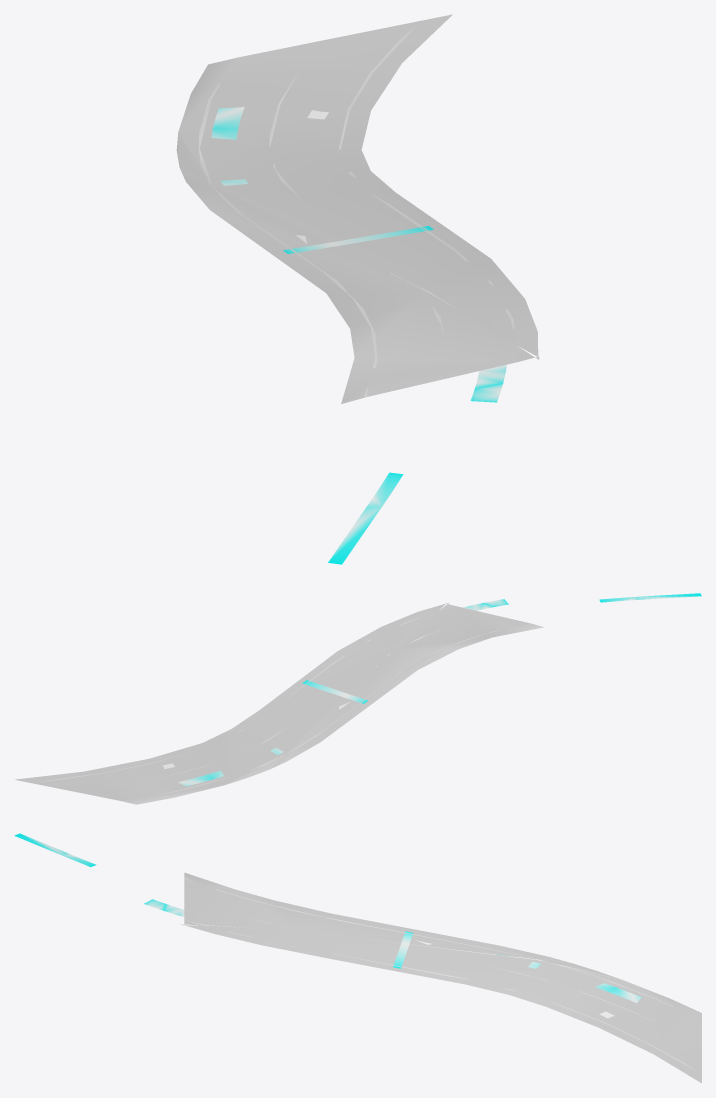
Rendered from cell_88_53.fbx.
3 views of the same model, one above another, from view 1: azimuth 30°, elevation 25°; view 2: azimuth 150°, elevation 25°; view 3: azimuth 270°, elevation 25° (orthographic). The views are drawn at different scales.
Parts seen in each view (by area): view 1: SpaceCenter_Long3_GenerateRoad_Asphalt_Mesh_x110_y67_17447_H, SpaceCenter_Long3_GenerateRoad_Asphalt_Mesh_x110_y66_17446_H, SpaceCenter_Long3_GenerateRoad_Asphalt_PCGMesh_Decal_Mesh_x1, SpaceCenter_Long3_GenerateRoad_Asphalt_PCGMesh_Decal_Mesh_x.; view 2: SpaceCenter_Long3_GenerateRoad_Asphalt_Mesh_x110_y67_17447_H, SpaceCenter_Long3_GenerateRoad_Asphalt_Mesh_x110_y66_17446_H, SpaceCenter_Long3_GenerateRoad_Asphalt_PCGMesh_Decal_Mesh_x1, SpaceCenter_Long3_GenerateRoad_Asphalt_PCGMesh_Decal_Mesh_x.; view 3: SpaceCenter_Long3_GenerateRoad_Asphalt_Mesh_x110_y67_17447_H, SpaceCenter_Long3_GenerateRoad_Asphalt_Mesh_x110_y66_17446_H, SpaceCenter_Long3_GenerateRoad_Asphalt_PCGMesh_Decal_Mesh_x1, SpaceCenter_Long3_GenerateRoad_Asphalt_PCGMesh_Decal_Mesh_x..
Boxes of the visible parts, <box> form: SpaceCenter_Long3_GenerateRoad_Asphalt_Mesh_x110_y67_17447_H: <box>176,14,538,356</box>; SpaceCenter_Long3_GenerateRoad_Asphalt_Mesh_x110_y66_17446_H: <box>180,168,534,403</box>; SpaceCenter_Long3_GenerateRoad_Asphalt_PCGMesh_Decal_Mesh_x1: <box>328,365,506,564</box>; SpaceCenter_Long3_GenerateRoad_Asphalt_PCGMesh_Decal_Mesh_x.: <box>211,107,433,246</box>; SpaceCenter_Long3_GenerateRoad_Asphalt_Mesh_x110_y67_17447_H: <box>15,603,445,804</box>; SpaceCenter_Long3_GenerateRoad_Asphalt_Mesh_x110_y66_17446_H: <box>271,604,543,768</box>; SpaceCenter_Long3_GenerateRoad_Asphalt_PCGMesh_Decal_Mesh_x1: <box>463,593,701,610</box>; SpaceCenter_Long3_GenerateRoad_Asphalt_PCGMesh_Decal_Mesh_x.: <box>178,680,347,786</box>; SpaceCenter_Long3_GenerateRoad_Asphalt_Mesh_x110_y67_17447_H: <box>185,925,701,1083</box>; SpaceCenter_Long3_GenerateRoad_Asphalt_Mesh_x110_y66_17446_H: <box>184,872,570,962</box>; SpaceCenter_Long3_GenerateRoad_Asphalt_PCGMesh_Decal_Mesh_x1: <box>14,833,184,916</box>; SpaceCenter_Long3_GenerateRoad_Asphalt_PCGMesh_Decal_Mesh_x.: <box>393,943,641,1002</box>.
Bounding box in the file's own units: 58.45 × 7.56 × 85.06.
